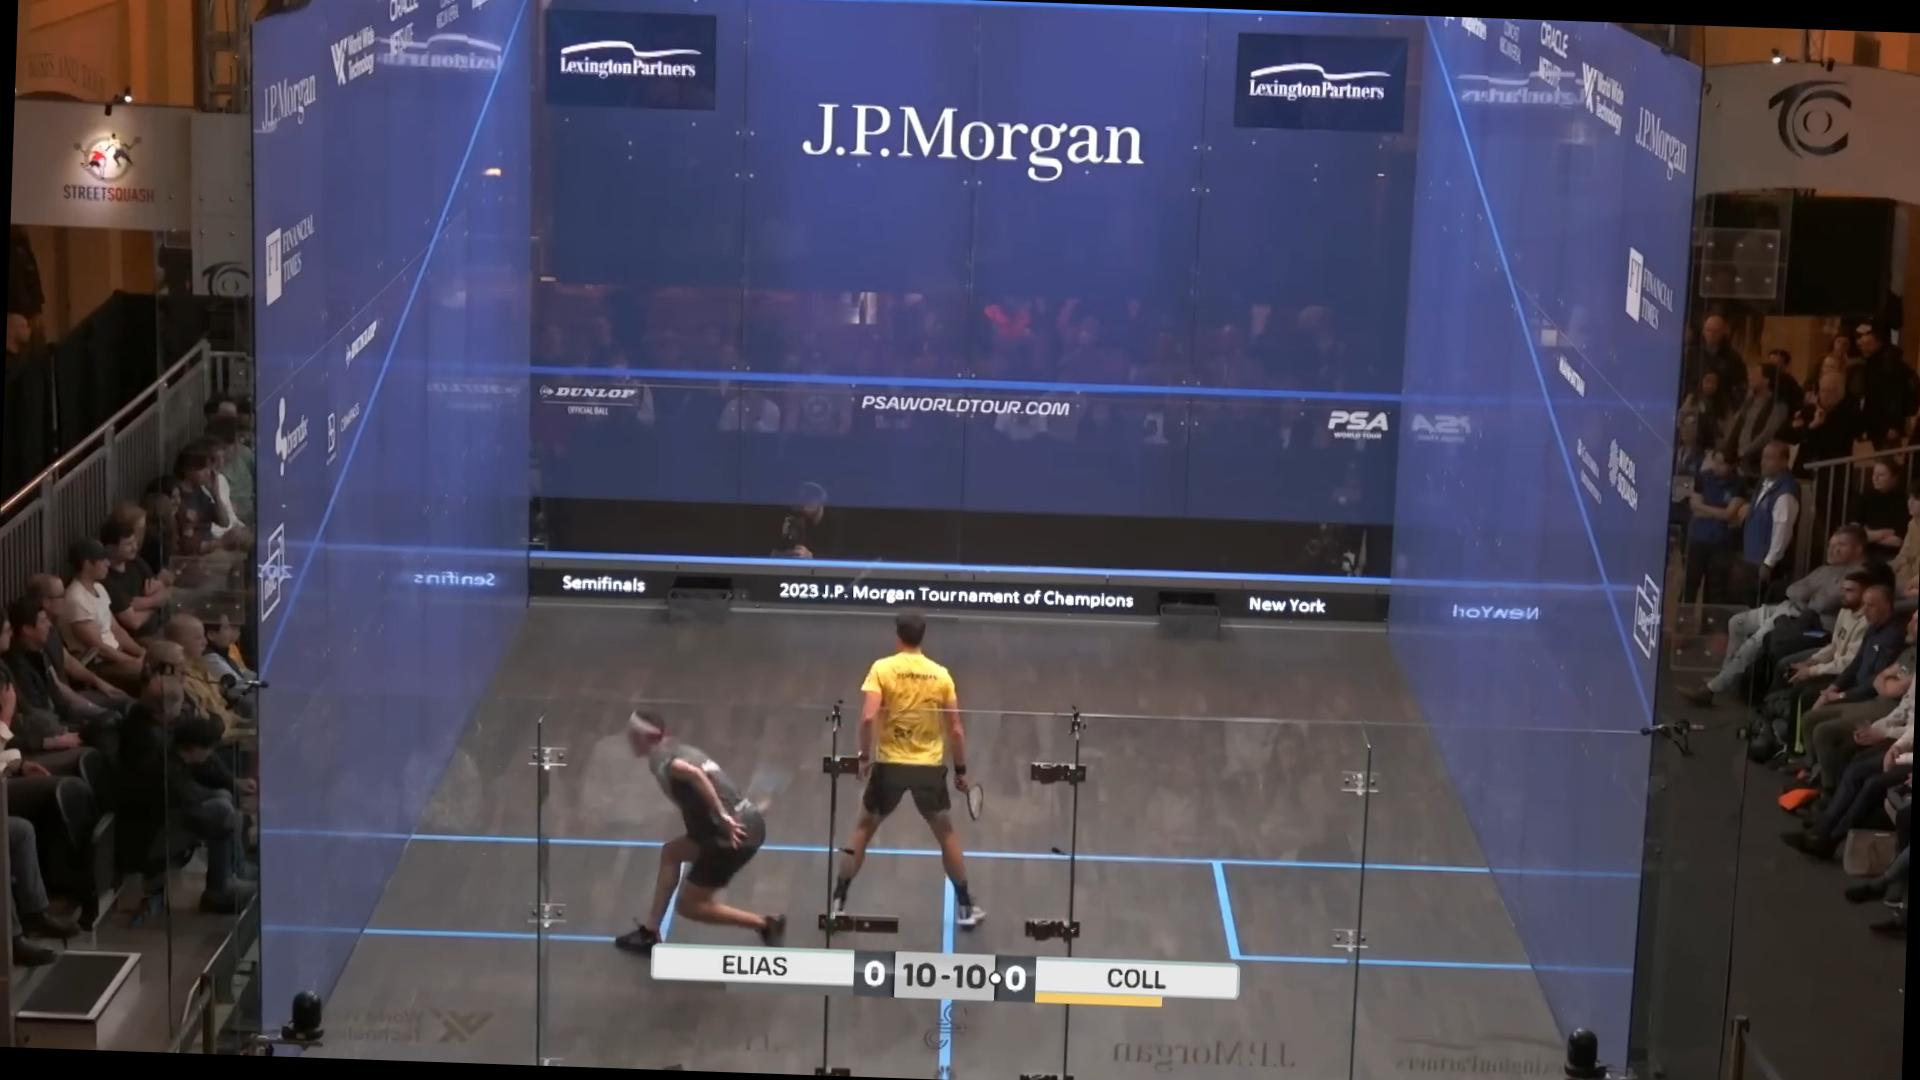Racket: (951, 781, 1000, 827)
